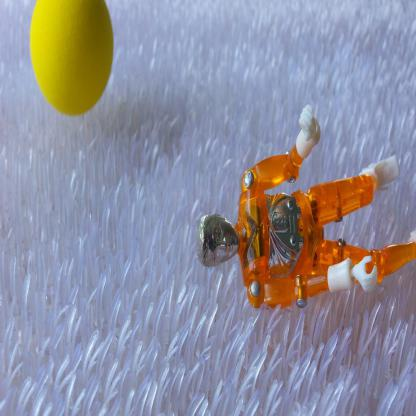Ball: (29, 0, 115, 114)
